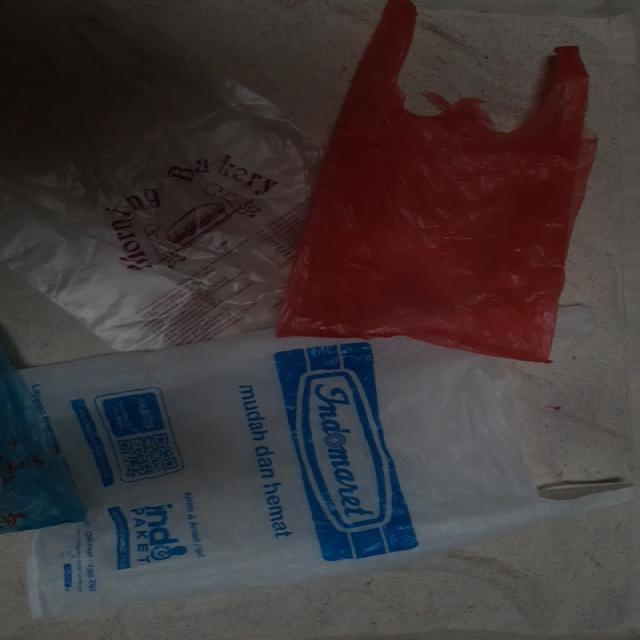Single-layer Plastic: (0, 336, 622, 616), (278, 0, 595, 362), (0, 0, 309, 349)
